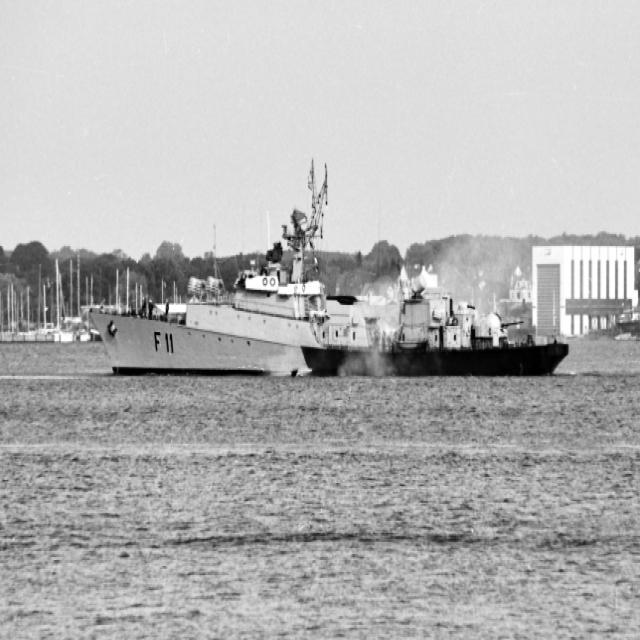Fragata: (79, 129, 578, 386)
